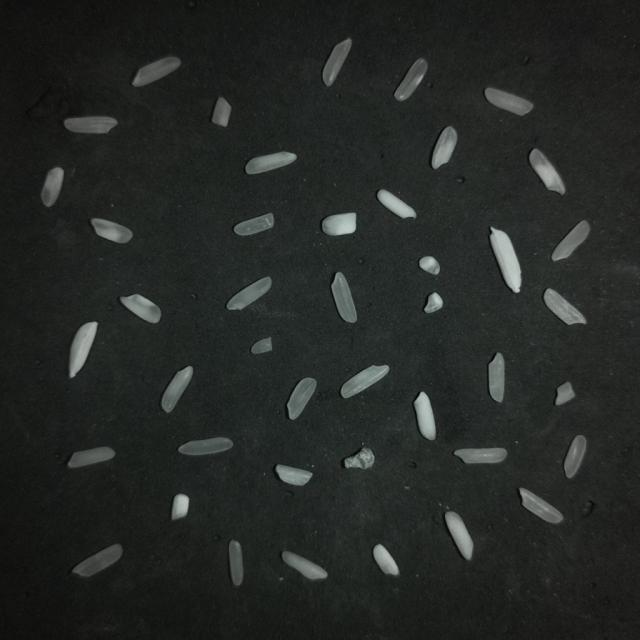broken: (212, 97, 231, 127), (555, 382, 574, 405), (251, 337, 272, 354)
chalky: (529, 149, 565, 194), (341, 365, 389, 398), (544, 289, 586, 324), (162, 366, 193, 413), (445, 512, 473, 559), (282, 551, 327, 579), (120, 294, 161, 323), (245, 152, 296, 174), (377, 190, 416, 218), (414, 392, 436, 440), (432, 127, 457, 169), (90, 219, 133, 243), (67, 447, 115, 468), (41, 167, 64, 207), (322, 212, 356, 236), (373, 544, 399, 575), (276, 465, 313, 486), (172, 494, 189, 520), (424, 292, 443, 313), (419, 256, 440, 274)
foreign: (490, 227, 521, 293), (69, 322, 98, 378), (344, 448, 374, 469)
whole: (72, 544, 122, 576), (519, 488, 563, 523), (552, 220, 589, 261), (394, 59, 428, 101), (227, 277, 271, 309), (132, 57, 180, 86), (484, 88, 533, 116), (323, 39, 351, 86), (332, 272, 357, 323), (287, 378, 316, 419), (178, 437, 233, 455), (64, 116, 117, 134), (564, 435, 586, 478), (234, 214, 274, 236), (488, 352, 504, 402), (454, 448, 506, 463), (229, 540, 243, 586)
